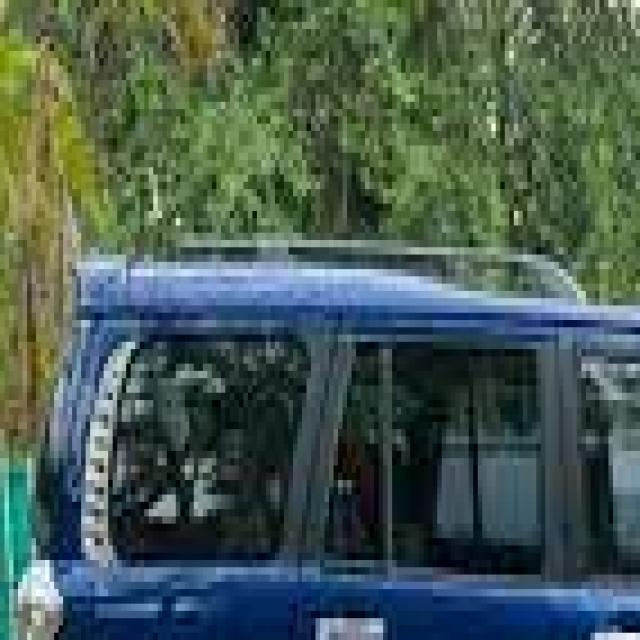car: (4, 232, 640, 640)
